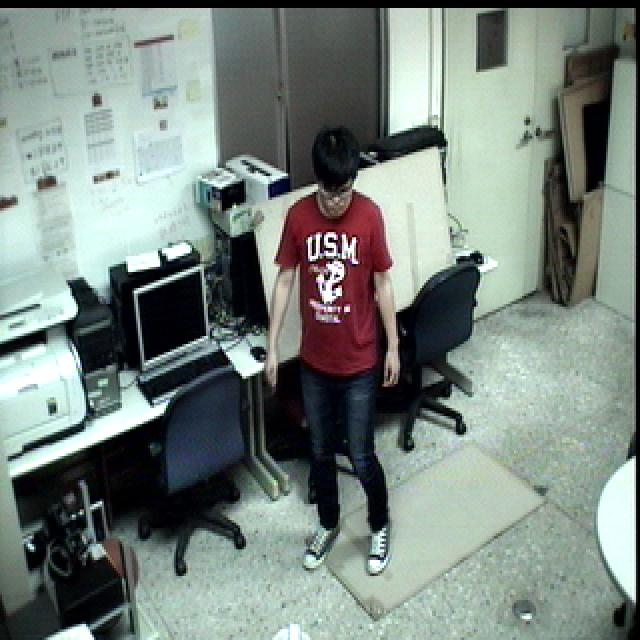stand: (255, 119, 416, 582)
